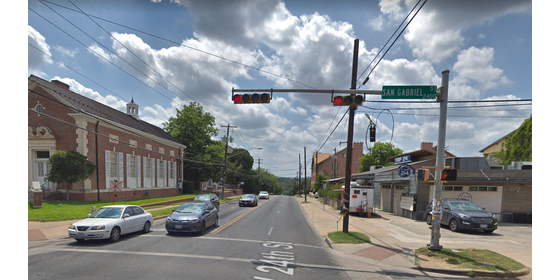street name sign: (379, 84, 439, 101)
